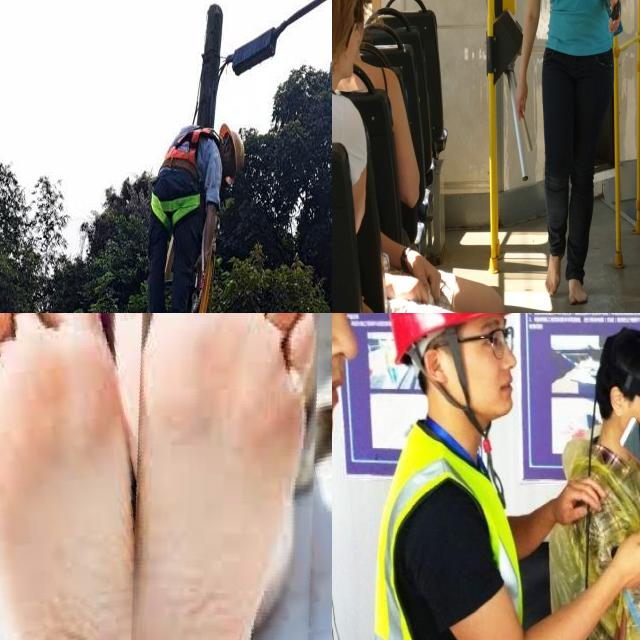Barefoots: (123, 313, 330, 640), (0, 313, 159, 640), (545, 245, 566, 296), (568, 279, 588, 305)
Harness: (149, 125, 219, 238)
No_Ear-Protection: (423, 349, 448, 383), (610, 386, 624, 416)
face_nomask: (465, 347, 516, 415), (332, 315, 359, 430)
head_helmet: (390, 313, 510, 362)
